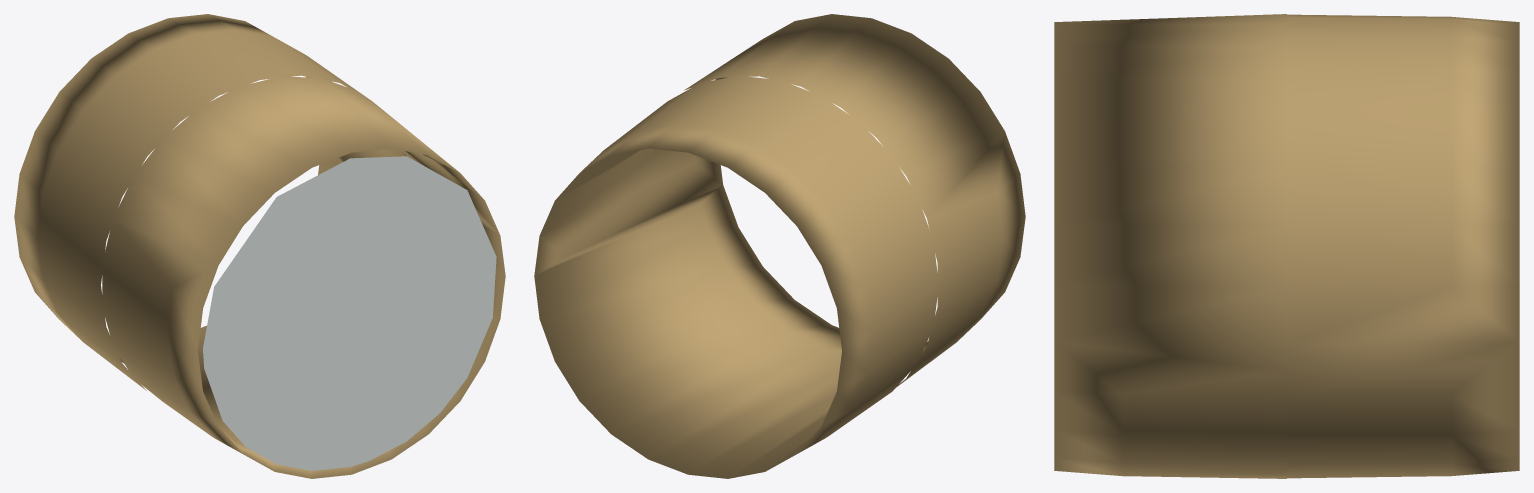
Rendered from studio-mirror-brass.lod.glb.
3 views of the same model, side by side, from view 1: azimuth 30°, elevation 25°; view 2: azimuth 150°, elevation 25°; view 3: azimuth 270°, elevation 25° (orthographic). The views are drawn at different scales.
Parts seen in each view (by area): view 1: part (×2); view 2: part; view 3: part.
Boxes of the visible parts, x1,y1,x2,y2 form: part (×2): (14,14,505,478); part: (534,14,1025,478); part: (1054,14,1519,478).
Bounding box in the file's own units: 1 × 1 × 1.
